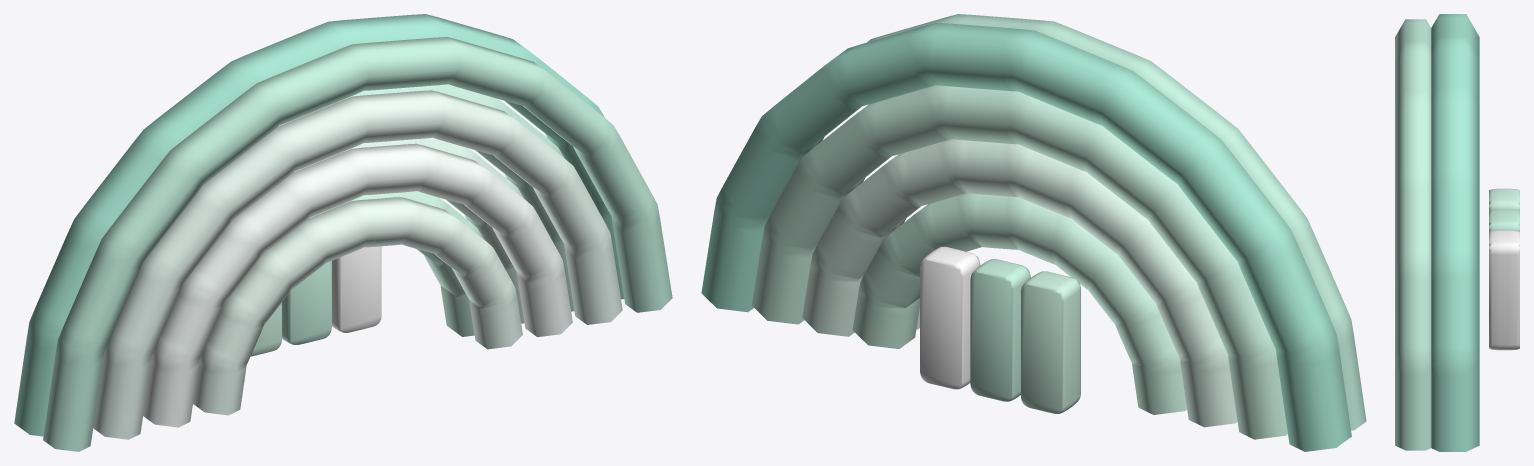
Rendered from decor_3_mint.glb.
3 views of the same model, side by side, from view 1: azimuth 30°, elevation 25°; view 2: azimuth 150°, elevation 25°; view 3: azimuth 270°, elevation 25° (orthographic). The views are drawn at different scales.
Parts seen in each view (by area): view 1: decor_3_mint; view 2: decor_3_mint; view 3: decor_3_mint.
Boxes of the visible parts, x1=… form: decor_3_mint: x1=14, y1=14, x2=672, y2=451; decor_3_mint: x1=701, y1=14, x2=1366, y2=451; decor_3_mint: x1=1395, y1=14, x2=1519, y2=451.
Size of the model in its own units: 15.11 by 7.65 by 3.03.
